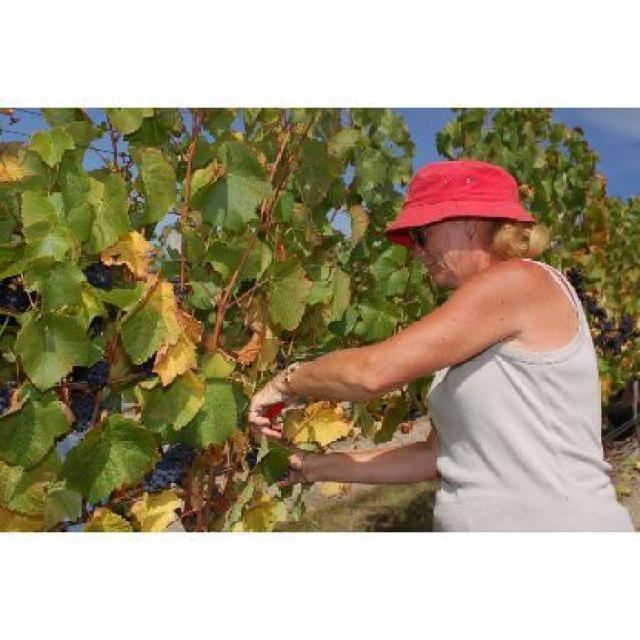Grape: (68, 361, 110, 427), (141, 440, 194, 492), (582, 293, 622, 350), (0, 283, 38, 312), (80, 262, 120, 284), (166, 274, 188, 298), (620, 318, 632, 338)
